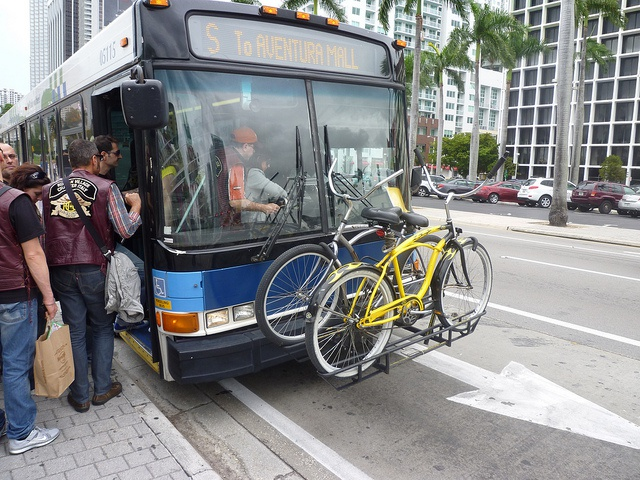non-vehicle: (303, 148, 509, 378), (259, 160, 391, 323)
